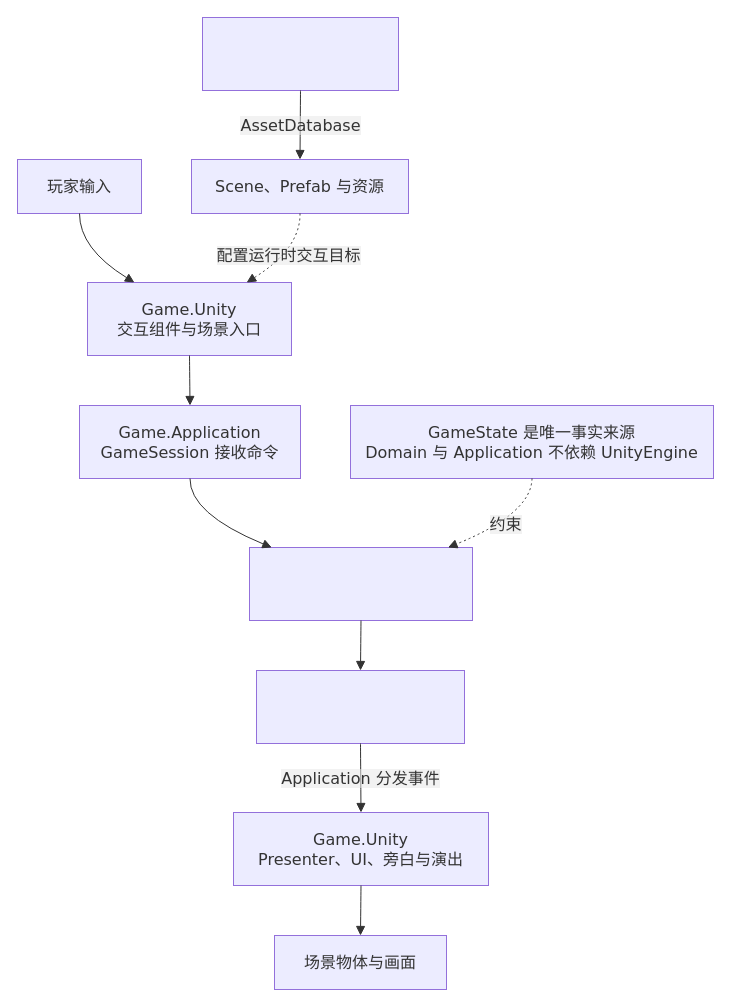
The diagram is 731 pixels wide and 1007 high, and some of its shapes have lost their labels. The shapes that lost their labels are listed below. From the top down, each one's centre as x and y in pixels, then its label:
At (x=300, y=53): "Game.Editor Builder 与校验工具".
At (x=360, y=583): "Game.Domain RuleEngine 与内容规则".
At (x=360, y=707): "GameState 事实更新 产生 DomainEvent".
